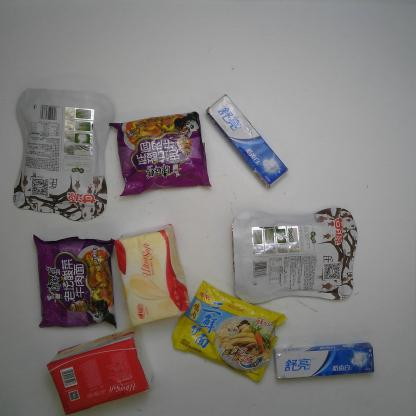Dried Fruit: (13, 88, 115, 222), (232, 208, 358, 304)
Instant Noodles: (171, 280, 287, 382), (108, 111, 212, 197), (32, 234, 118, 330)
Personal Hygiene: (205, 94, 289, 188), (273, 342, 375, 379)
Tissue: (46, 327, 154, 416), (114, 223, 190, 327)
